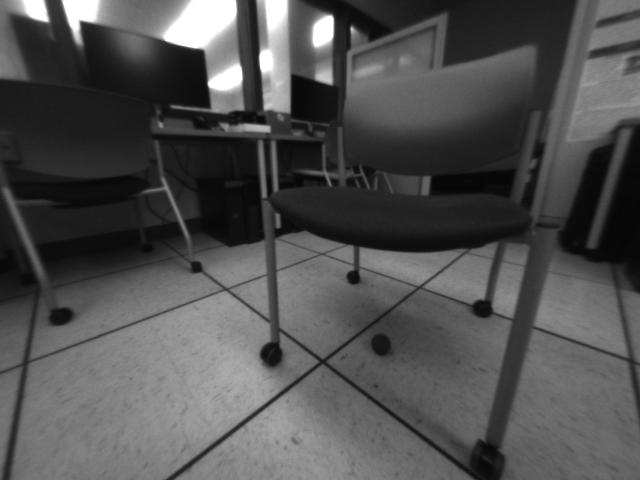dogtoy: (369, 326, 399, 362)
